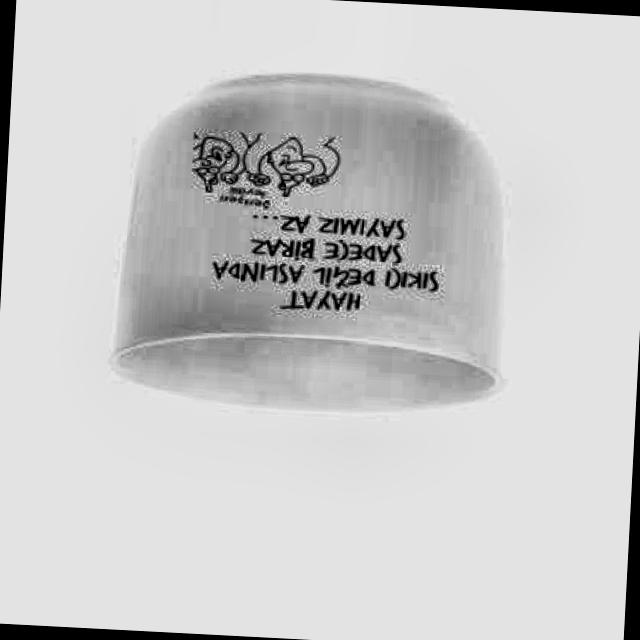Mug: (108, 61, 520, 420)
